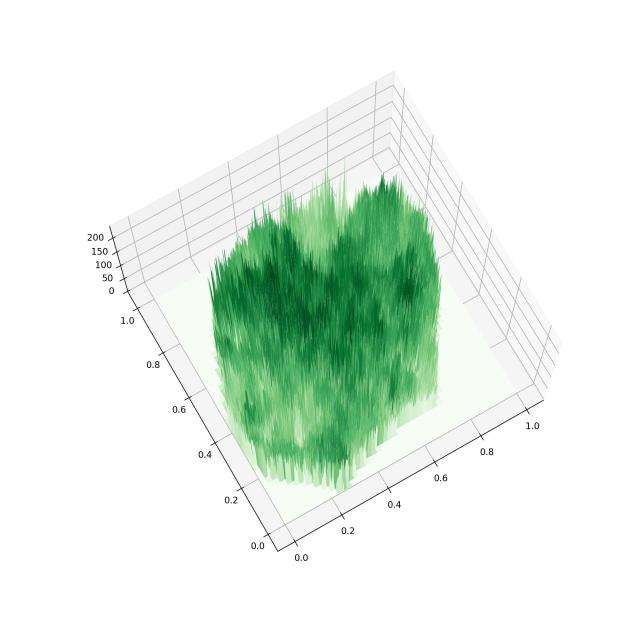trembling aspen: (72, 16, 582, 595)
